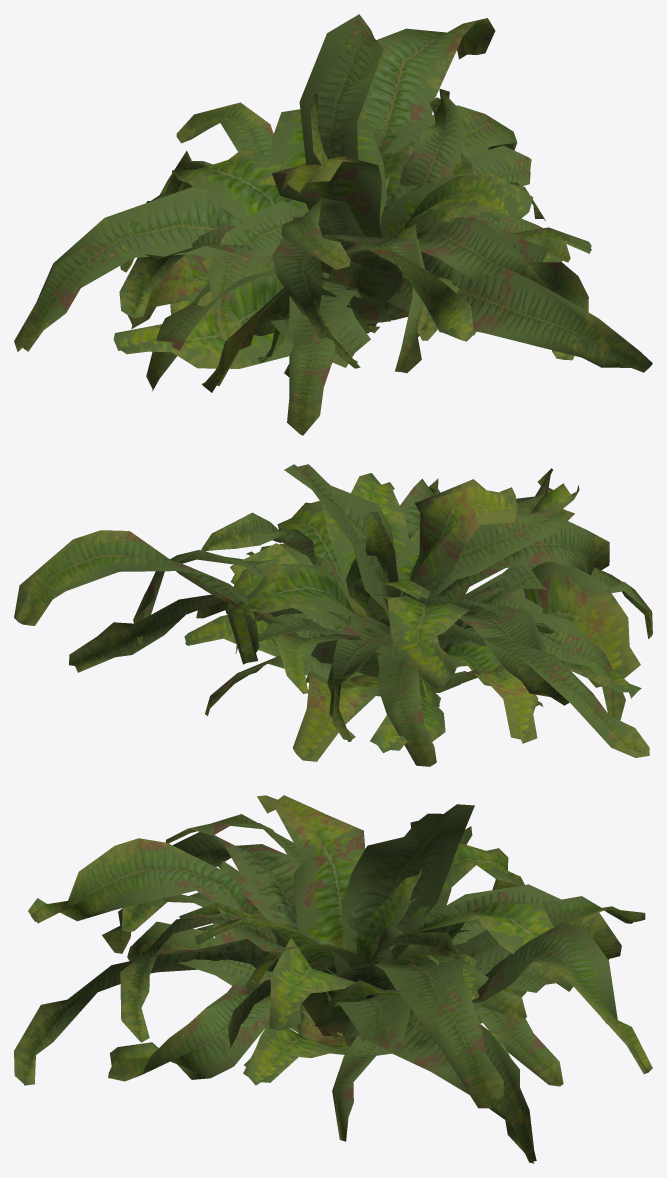
Rendered from fern_02.glb.
3 views of the same model, one above another, from view 1: azimuth 30°, elevation 25°; view 2: azimuth 150°, elevation 25°; view 3: azimuth 270°, elevation 25° (orthographic). The views are drawn at different scales.
Visible parts, largest first — view 1: fern_02_b, fern_02_c, fern_02_d, fern_02_a; view 2: fern_02_b, fern_02_c, fern_02_a, fern_02_d; view 3: fern_02_b, fern_02_c, fern_02_a, fern_02_d.
Part boxes in pixels (<box>): fern_02_b: <box>14,14,652,435</box>; fern_02_c: <box>113,93,588,376</box>; fern_02_d: <box>161,152,562,362</box>; fern_02_a: <box>170,88,548,340</box>; fern_02_b: <box>14,464,652,761</box>; fern_02_c: <box>69,478,641,766</box>; fern_02_a: <box>201,512,542,715</box>; fern_02_d: <box>230,529,560,753</box>; fern_02_b: <box>14,795,652,1141</box>; fern_02_c: <box>108,814,645,1163</box>; fern_02_a: <box>139,896,562,1086</box>; fern_02_d: <box>179,902,526,1066</box>.
Size of the model in its own units: 0.989 by 0.4277 by 0.8937.
Materials: 1 (1 with a texture image).
